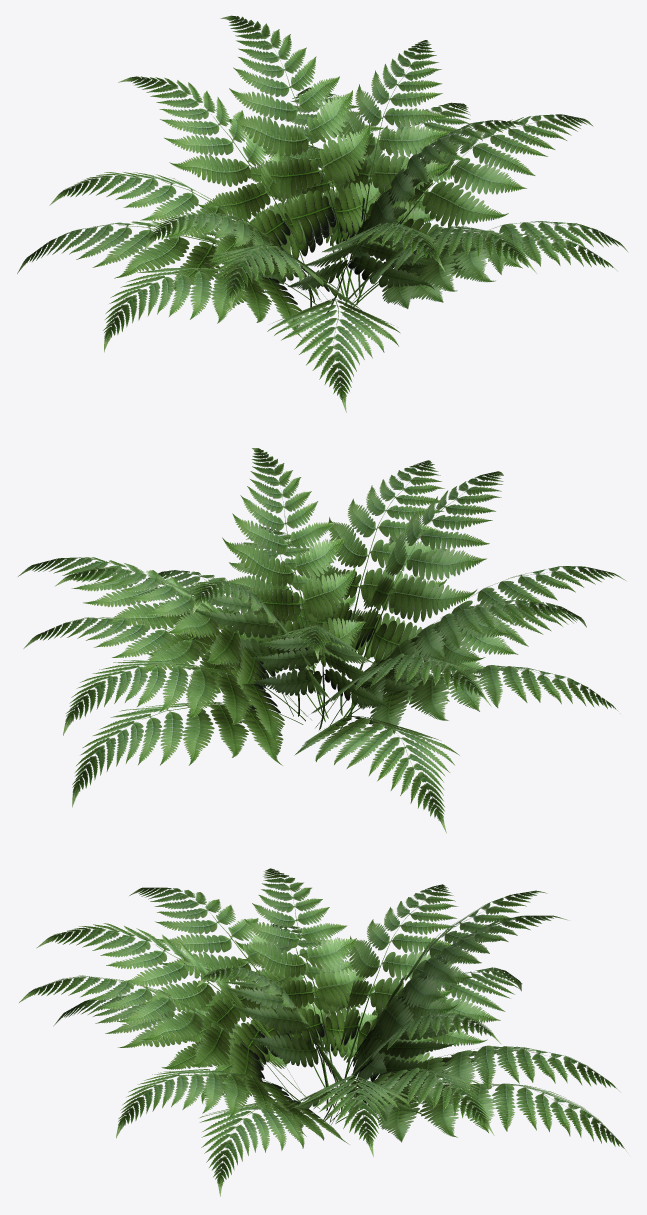
The model's file is fern_6.glb.
3 renders of one model, top to bottom at view 1: azimuth 30°, elevation 25°; view 2: azimuth 150°, elevation 25°; view 3: azimuth 270°, elevation 25°, orthographic.
Visible parts, largest first — view 1: SM_MZRa_Fern_B0532_MI_MZRa_Fern_B053_0; view 2: SM_MZRa_Fern_B0532_MI_MZRa_Fern_B053_0; view 3: SM_MZRa_Fern_B0532_MI_MZRa_Fern_B053_0.
Part boxes in pixels (<box>): SM_MZRa_Fern_B0532_MI_MZRa_Fern_B053_0: <box>17,15,628,412</box>; SM_MZRa_Fern_B0532_MI_MZRa_Fern_B053_0: <box>18,448,625,833</box>; SM_MZRa_Fern_B0532_MI_MZRa_Fern_B053_0: <box>19,868,627,1196</box>.
Size of the model in its own units: 1.92 by 0.694 by 1.86.
1 material, 1 textured.
